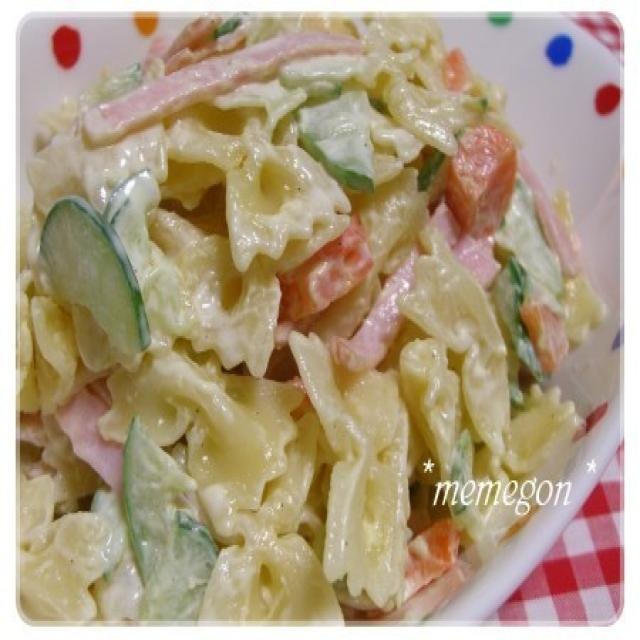蔬菜料理: (36, 40, 593, 608)
